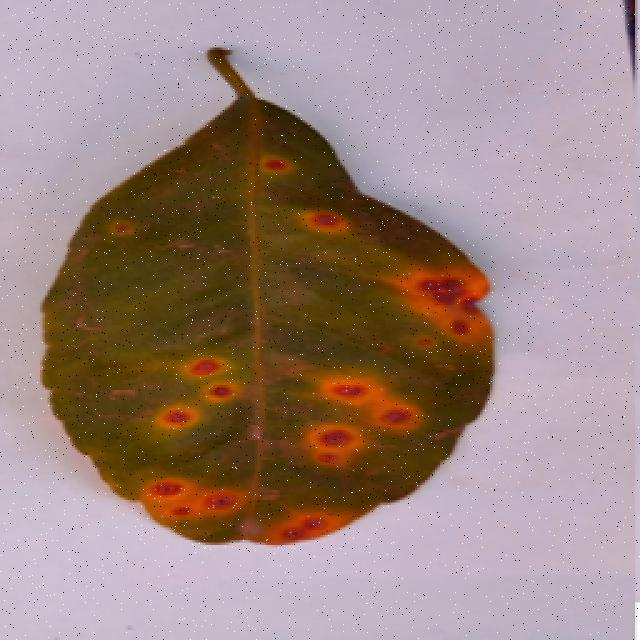canker: (48, 89, 509, 559)
